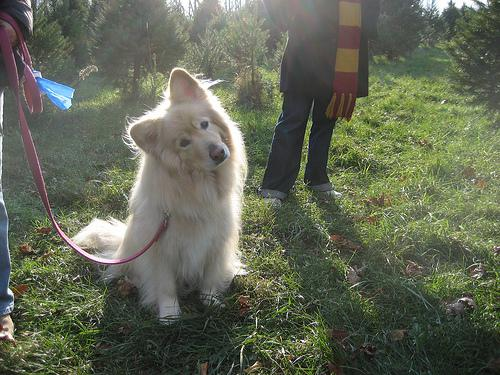dog-samoyed: (128, 66, 230, 170)
